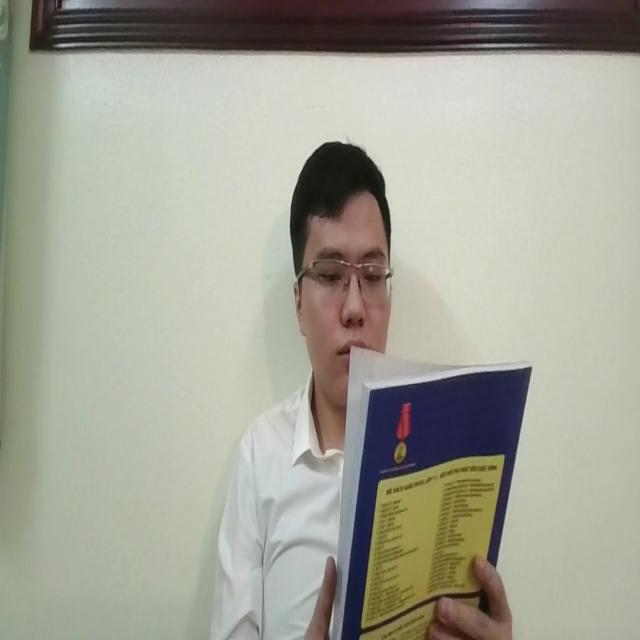book: (338, 335, 532, 640)
student: (212, 133, 404, 640)
